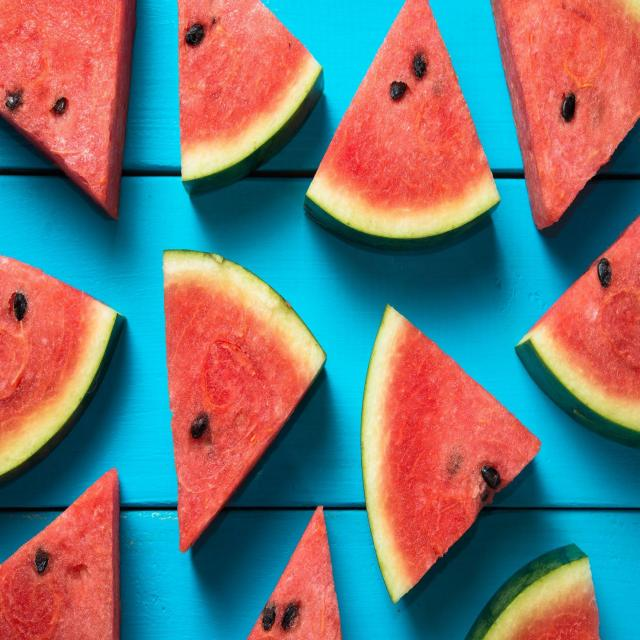watermelon: (354, 284, 548, 614), (156, 241, 333, 563), (300, 0, 507, 249), (485, 0, 640, 243), (511, 184, 640, 472), (0, 0, 143, 234), (0, 248, 130, 495), (174, 0, 327, 209), (0, 458, 121, 640), (449, 535, 605, 640)
